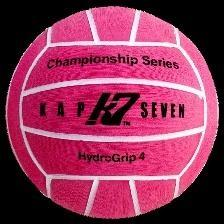Sports-Ball: (6, 5, 219, 224)
